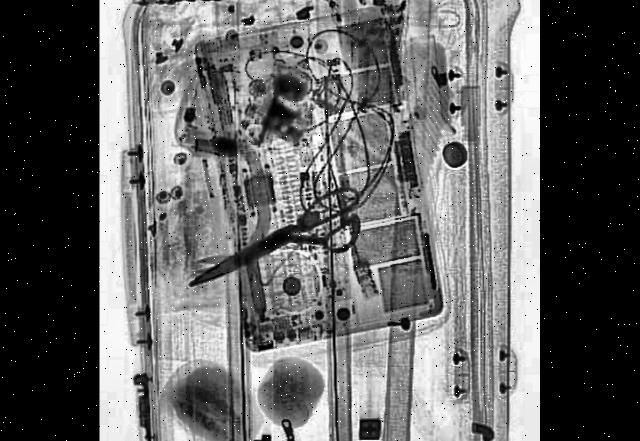Scissors: (186, 180, 369, 317)
